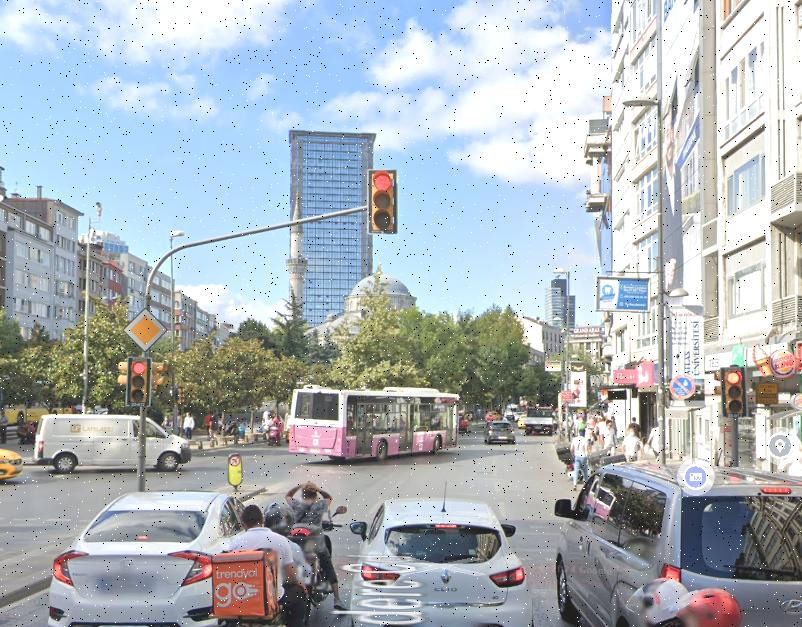redlight: (369, 170, 396, 233), (721, 366, 745, 416), (129, 358, 151, 406)
